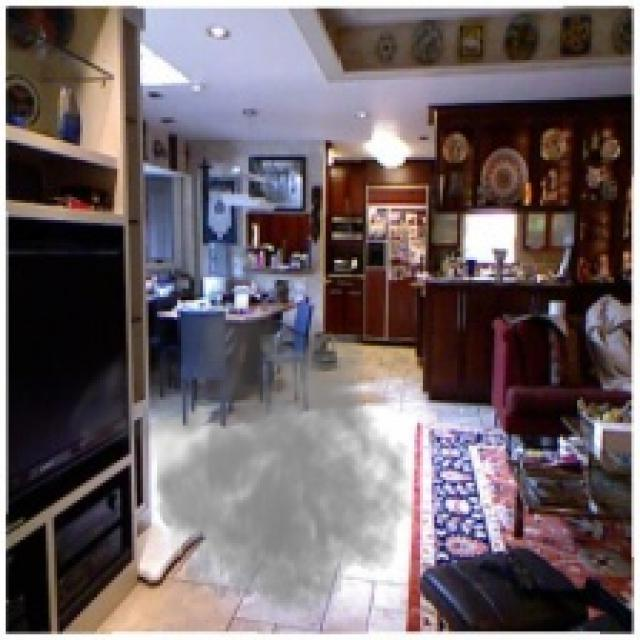Smoke: (62, 292, 418, 637)
